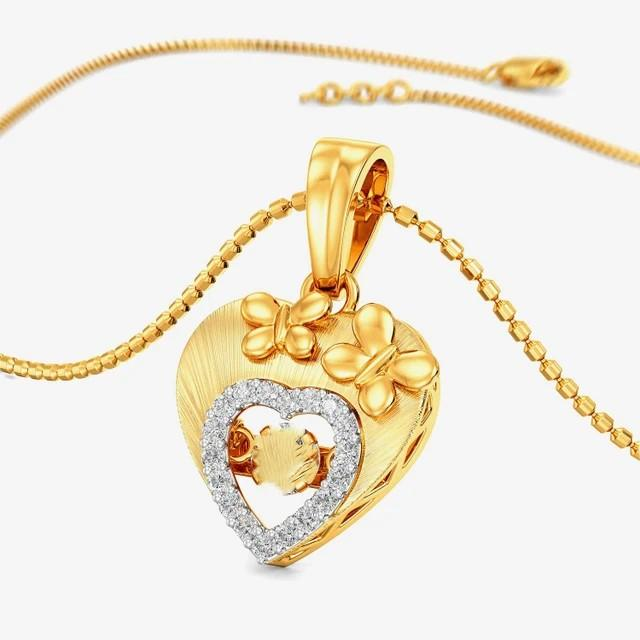missing gem: (251, 424, 320, 496)
